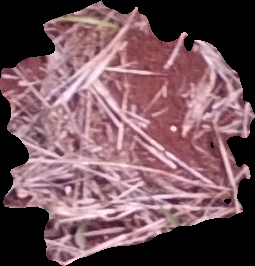soil: (1, 1, 254, 266)
